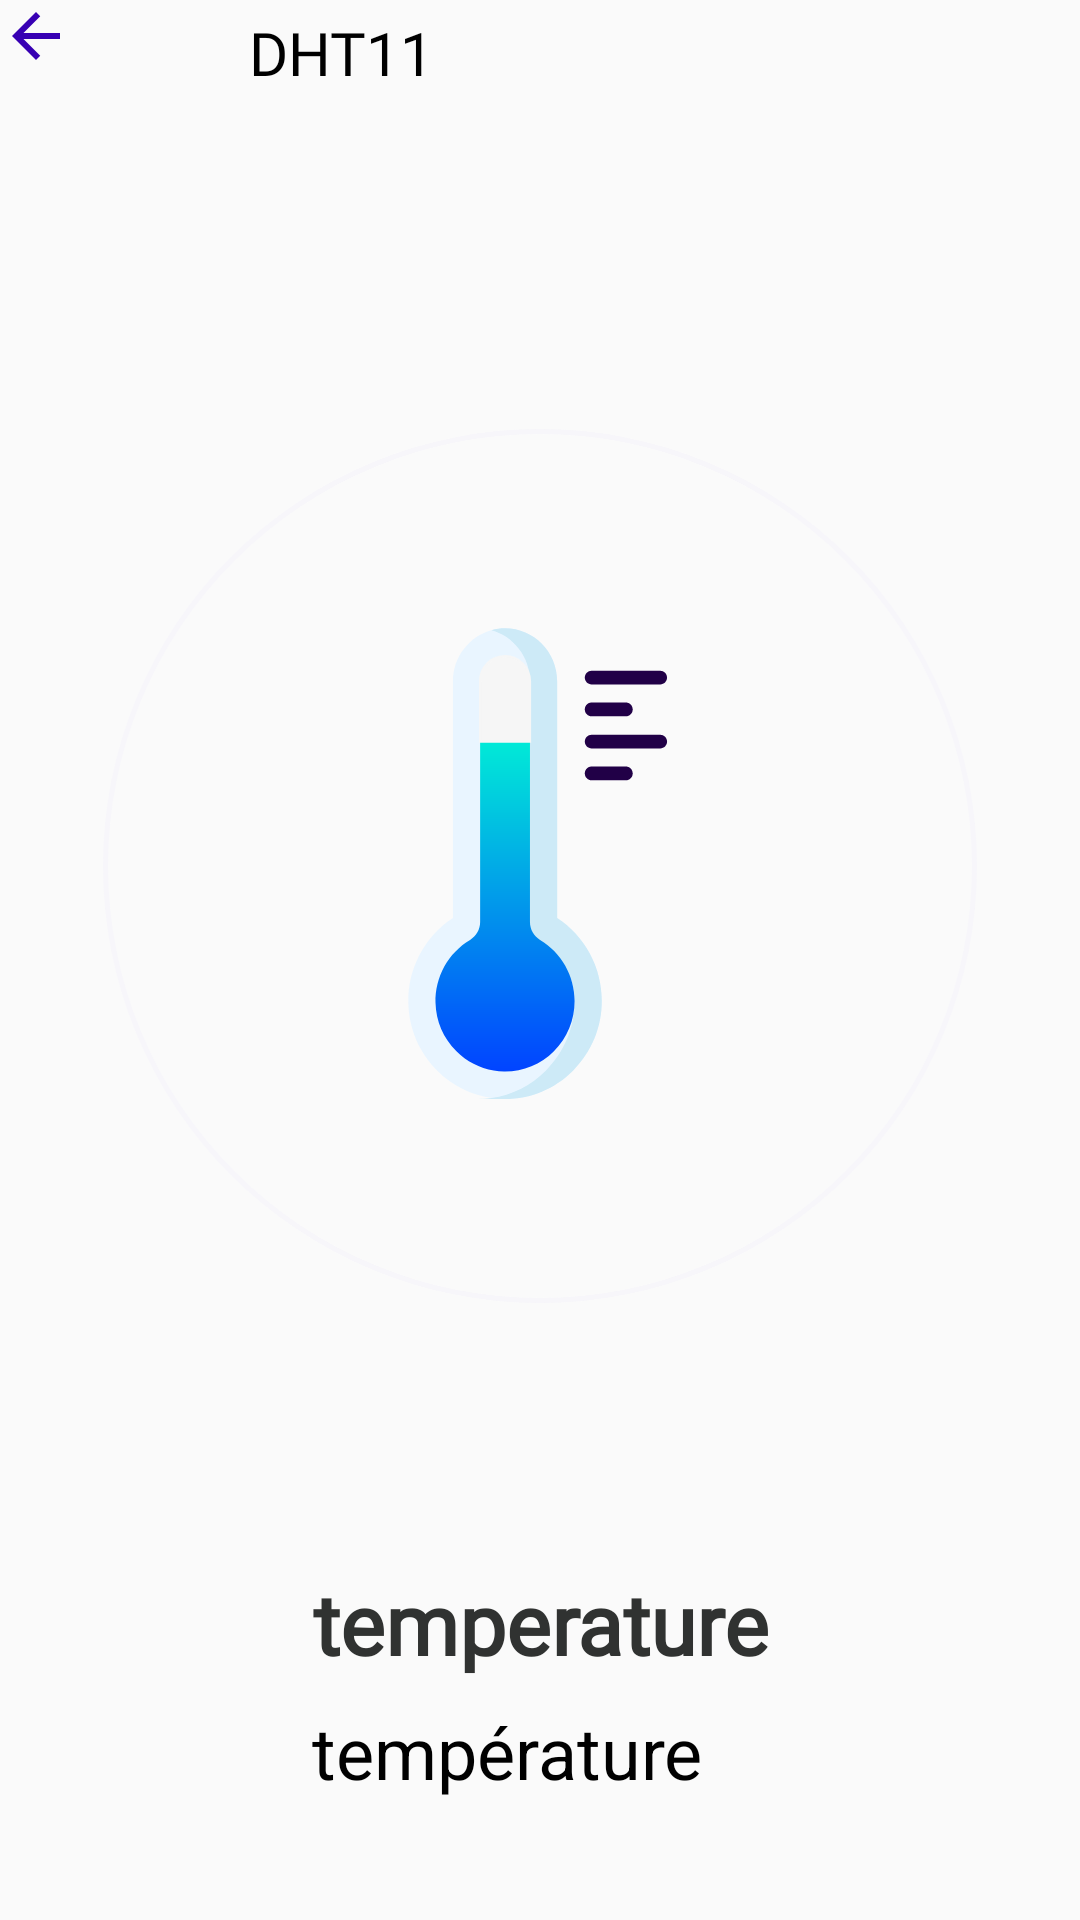

Screen size 1080w x 1920h. Icon name, then its center in pixels as [x,y]:
arrow back: [36,36]
